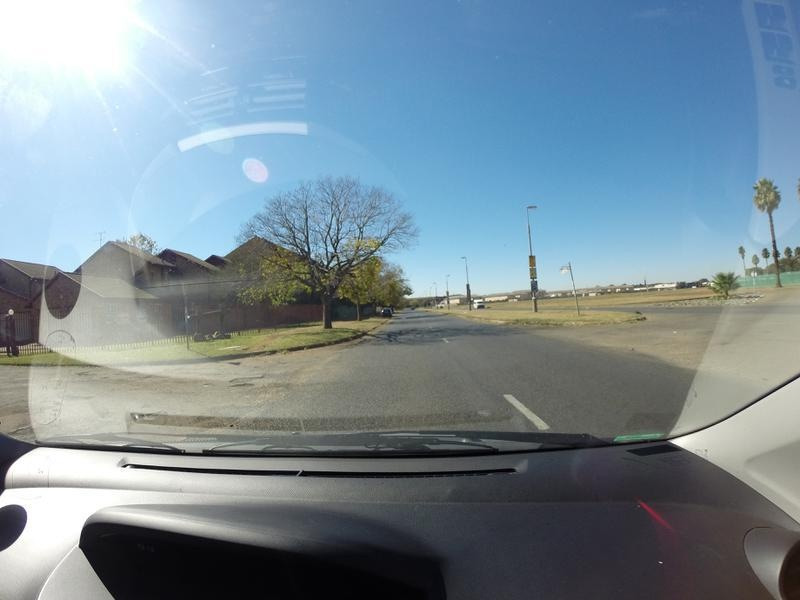pothole: (75, 368, 103, 375), (236, 375, 272, 379), (231, 384, 258, 388)
